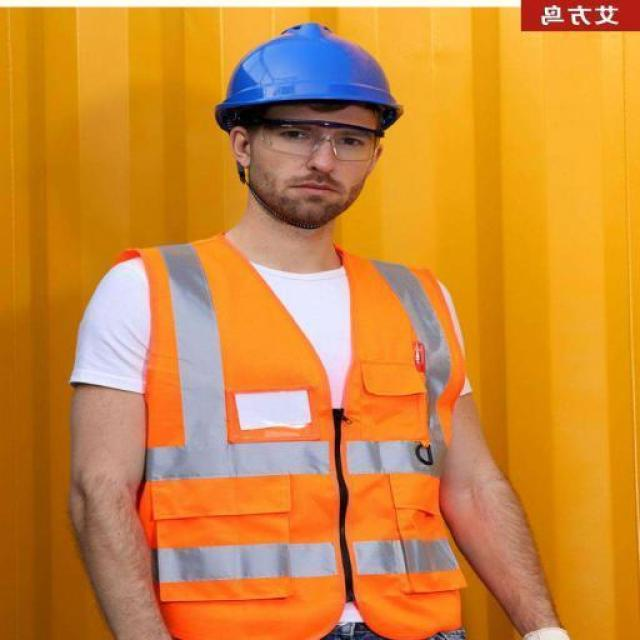helmet: (212, 21, 408, 118)
vest: (122, 235, 474, 640)
